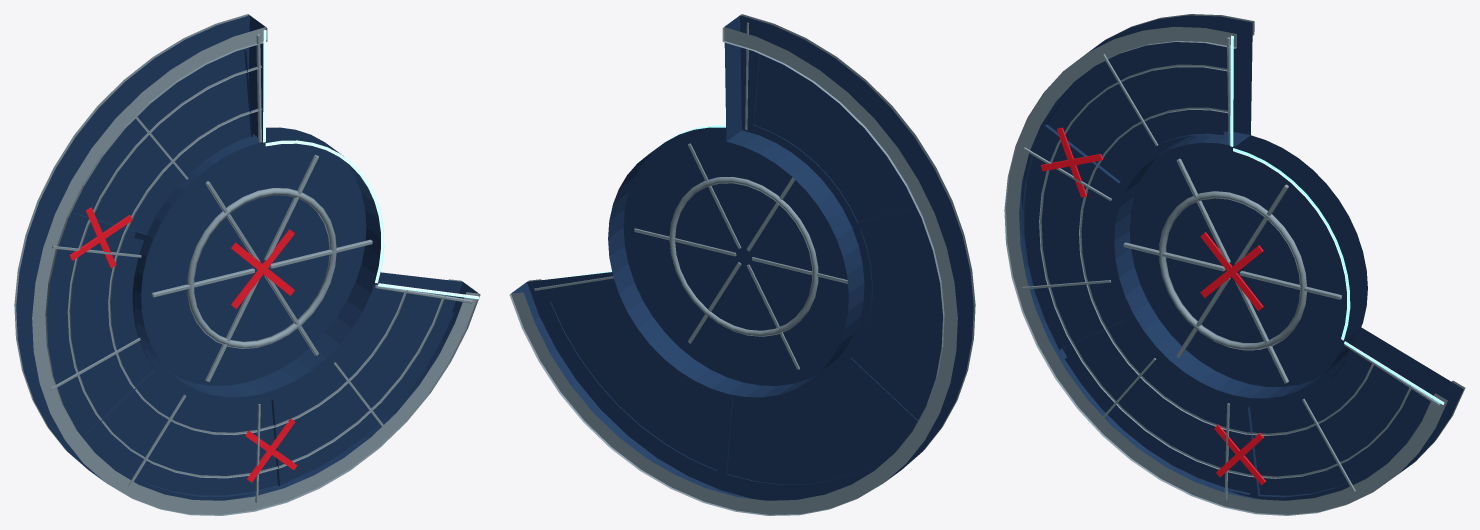
File: foundry-panel-fun11-medium.glb
3 renders of one model, left to right at view 1: azimuth 30°, elevation 25°; view 2: azimuth 150°, elevation 25°; view 3: azimuth 330°, elevation 25°, orthographic.
Parts seen in each view (by area): view 1: RENDER_PANEL_SHELL, RENDER_PANEL_FRAME, RENDER_PANEL_HAZARD, RENDER_PANEL_SIGNAL; view 2: RENDER_PANEL_SHELL, RENDER_PANEL_FRAME; view 3: RENDER_PANEL_SHELL, RENDER_PANEL_FRAME, RENDER_PANEL_HAZARD, RENDER_PANEL_SIGNAL.
Part boxes in pixels (x1=…): RENDER_PANEL_SHELL: x1=16, y1=15, x2=478, y2=500; RENDER_PANEL_FRAME: x1=14, y1=14, x2=480, y2=515; RENDER_PANEL_HAZARD: x1=69, y1=207, x2=297, y2=482; RENDER_PANEL_SIGNAL: x1=263, y1=30, x2=479, y2=299; RENDER_PANEL_SHELL: x1=511, y1=15, x2=973, y2=500; RENDER_PANEL_FRAME: x1=509, y1=14, x2=975, y2=515; RENDER_PANEL_SHELL: x1=1019, y1=15, x2=1463, y2=500; RENDER_PANEL_FRAME: x1=1004, y1=14, x2=1465, y2=515; RENDER_PANEL_HAZARD: x1=1040, y1=127, x2=1265, y2=485; RENDER_PANEL_SIGNAL: x1=1230, y1=35, x2=1444, y2=404.
Size of what is drawn, in the model's own units: 39.89 by 40.98 by 3.09.
